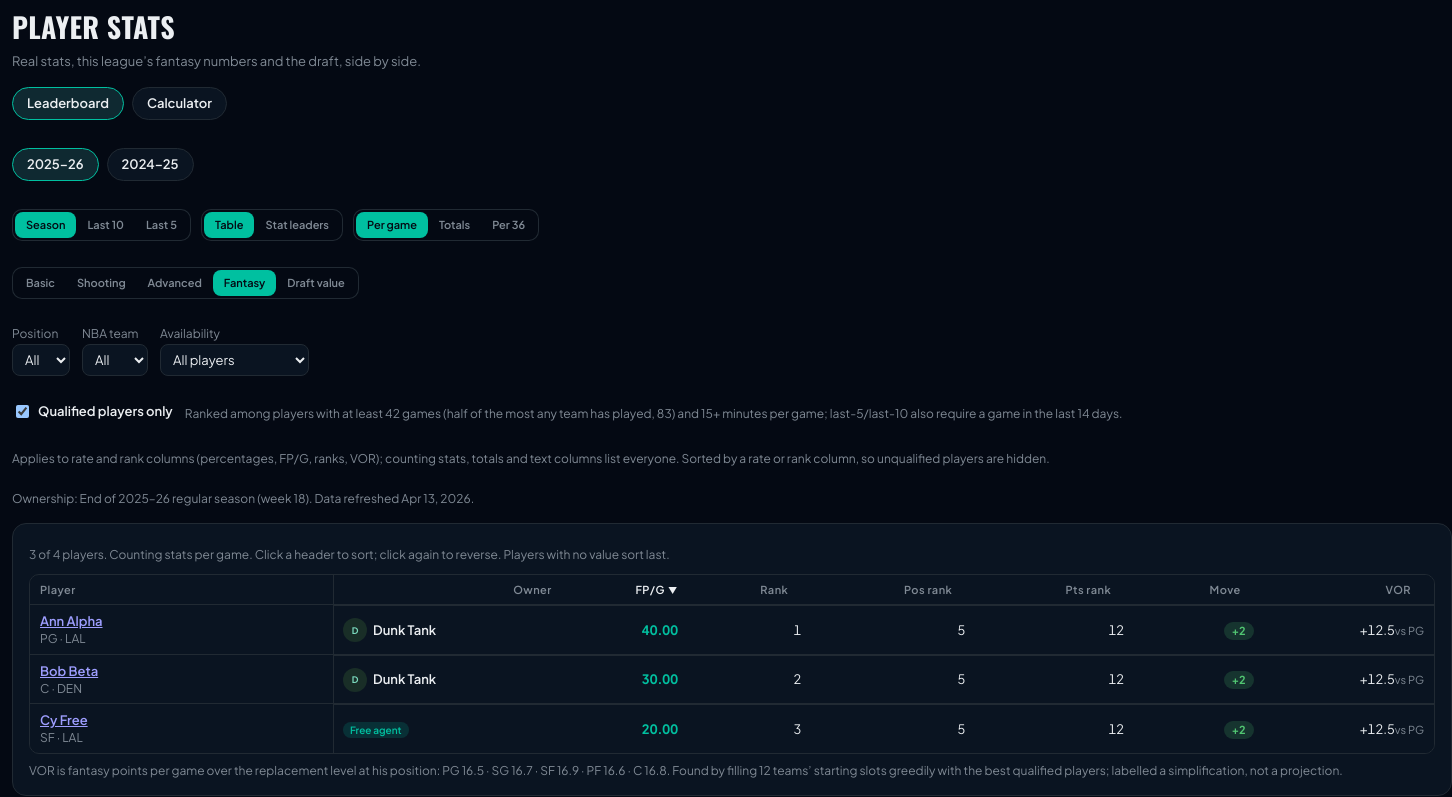
Test: StatLeaderboard › draft columns › flags early grades with the weeks counted
Click the button "Draft value" at (316, 283), box [276, 270, 356, 296]
(page scrolled)
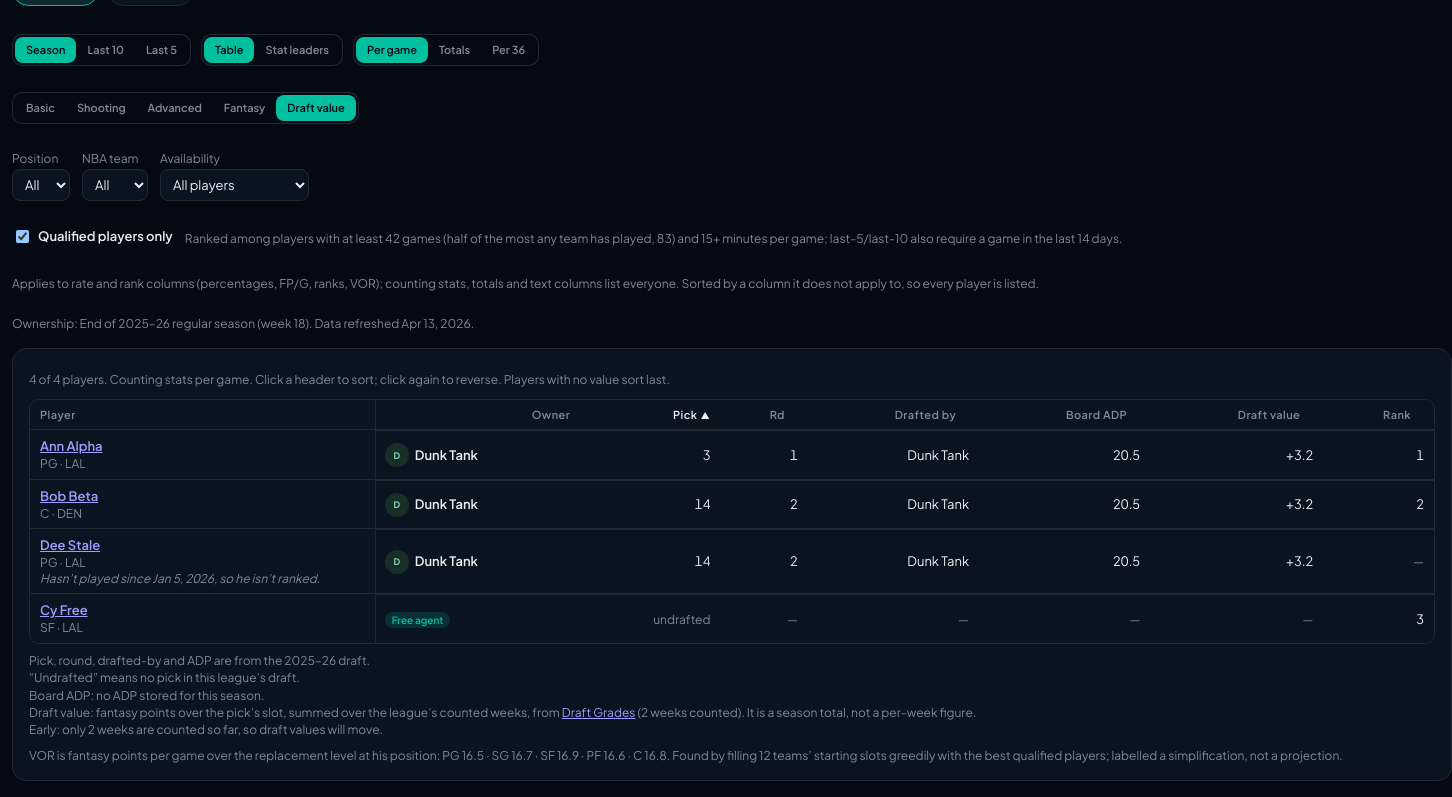
Now the list item "only 2 weeks are counted so far" is shown, box [29, 722, 383, 737]
